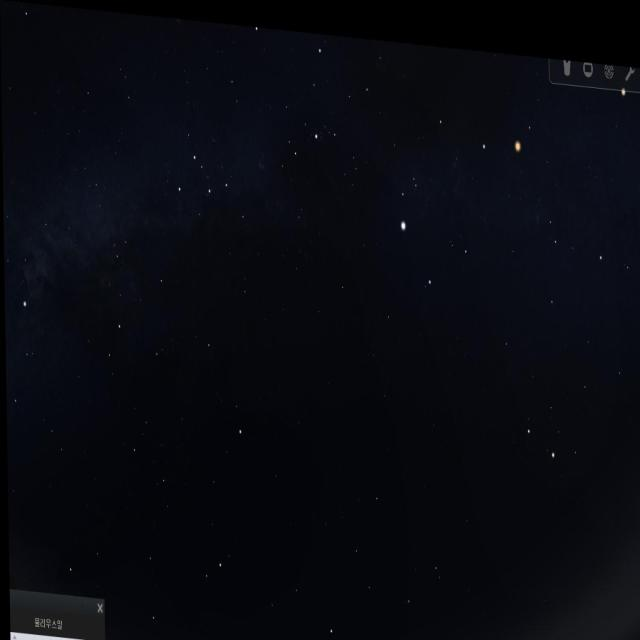cassiopeia: (162, 126, 245, 231)
